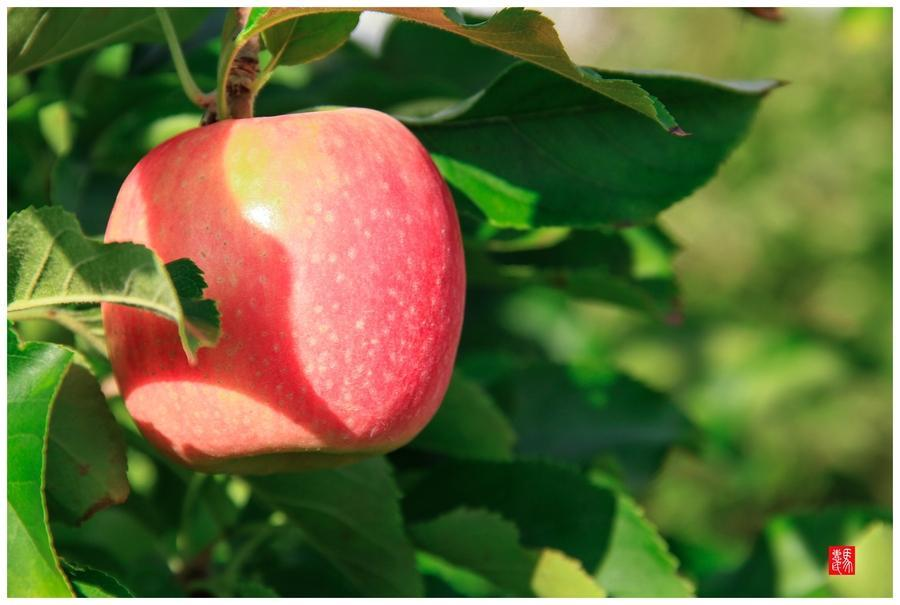apple: (98, 109, 469, 475)
